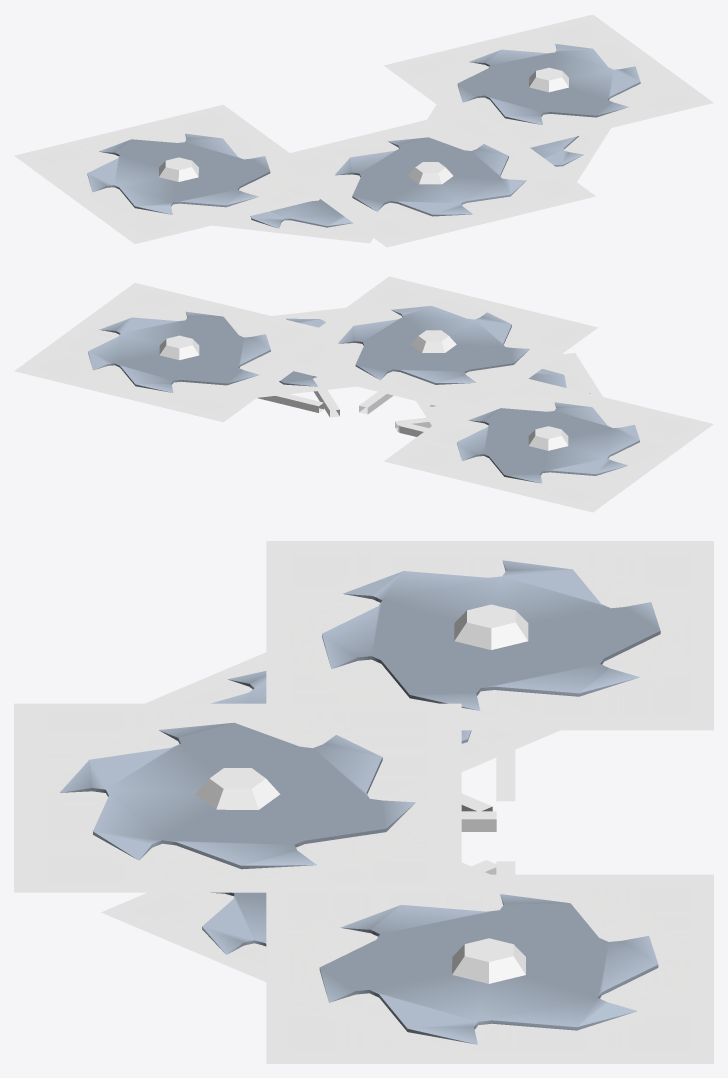
The model's file is saw 11.FBX.
3 renders of one model, top to bottom at view 1: azimuth 30°, elevation 25°; view 2: azimuth 150°, elevation 25°; view 3: azimuth 270°, elevation 25°, orthographic. The views are drawn at different scales.
Visible parts, largest first — view 1: Saw_Wind_FX, Saw_Wind_FX_3, Saw_Wind_FX_4, Saw_6_9, Saw_6_1, Saw_6_7, Saw_Wind_FX_1, Saw_6_3, Saw_Wind_FX_2, Saw_6_5, Saw_6_cell_4, Saw_6_cell_3 (+1 smaller); view 2: Saw_Wind_FX, Saw_Wind_FX_3, Saw_Wind_FX_4, Saw_6_9, Saw_6_7, Saw_6_1, Saw_Wind_FX_1, Saw_Wind_FX_2, Saw_6_cell_4, Saw_6_cell_3, Saw_6_cell, Mounting_Saw_4 (+4 smaller); view 3: Saw_Wind_FX, Saw_Wind_FX_4, Saw_Wind_FX_3, Saw_6_1, Saw_6_9, Saw_6_7, Saw_Wind_FX_2, Saw_Wind_FX_1, Saw_6_5, Saw_6_cell_3, Saw_6_cell_4, Saw_6_cell (+2 smaller).
Boxes of the visible parts, x1=… form: Saw_Wind_FX: x1=266, y1=108, x2=595, y2=247; Saw_Wind_FX_3: x1=14, y1=104, x2=319, y2=243; Saw_Wind_FX_4: x1=384, y1=14, x2=713, y2=147; Saw_6_9: x1=457, y1=43, x2=640, y2=124; Saw_6_1: x1=334, y1=137, x2=526, y2=216; Saw_6_7: x1=87, y1=133, x2=270, y2=214; Saw_Wind_FX_1: x1=212, y1=216, x2=373, y2=243; Saw_6_3: x1=250, y1=199, x2=352, y2=228; Saw_Wind_FX_2: x1=427, y1=104, x2=610, y2=181; Saw_6_5: x1=530, y1=136, x2=583, y2=166; Saw_6_cell_4: x1=529, y1=67, x2=568, y2=92; Saw_6_cell_3: x1=159, y1=157, x2=198, y2=181; Saw_Wind_FX: x1=268, y1=276, x2=597, y2=415; Saw_Wind_FX_3: x1=384, y1=379, x2=713, y2=512; Saw_Wind_FX_4: x1=14, y1=283, x2=318, y2=422; Saw_6_9: x1=88, y1=311, x2=270, y2=392; Saw_6_7: x1=457, y1=402, x2=639, y2=483; Saw_6_1: x1=338, y1=306, x2=529, y2=384; Saw_Wind_FX_1: x1=416, y1=353, x2=602, y2=425; Saw_Wind_FX_2: x1=257, y1=307, x2=356, y2=397; Saw_6_cell_4: x1=159, y1=335, x2=199, y2=360; Saw_6_cell_3: x1=528, y1=426, x2=568, y2=450; Saw_6_cell: x1=411, y1=330, x2=456, y2=352; Mounting_Saw_4: x1=257, y1=394, x2=323, y2=412; Saw_Wind_FX: x1=14, y1=703, x2=461, y2=892; Saw_Wind_FX_4: x1=266, y1=874, x2=713, y2=1063; Saw_Wind_FX_3: x1=266, y1=541, x2=713, y2=730; Saw_6_1: x1=60, y1=722, x2=415, y2=869; Saw_6_9: x1=319, y1=894, x2=658, y2=1044; Saw_6_7: x1=322, y1=560, x2=660, y2=710; Saw_Wind_FX_2: x1=101, y1=862, x2=489, y2=981; Saw_Wind_FX_1: x1=145, y1=652, x2=560, y2=771; Saw_6_5: x1=202, y1=892, x2=266, y2=954; Saw_6_cell_3: x1=454, y1=604, x2=528, y2=649; Saw_6_cell_4: x1=452, y1=938, x2=525, y2=983; Saw_6_cell: x1=195, y1=768, x2=280, y2=809.
Bounding box in the file's own units: 799 × 49.96 × 452.
